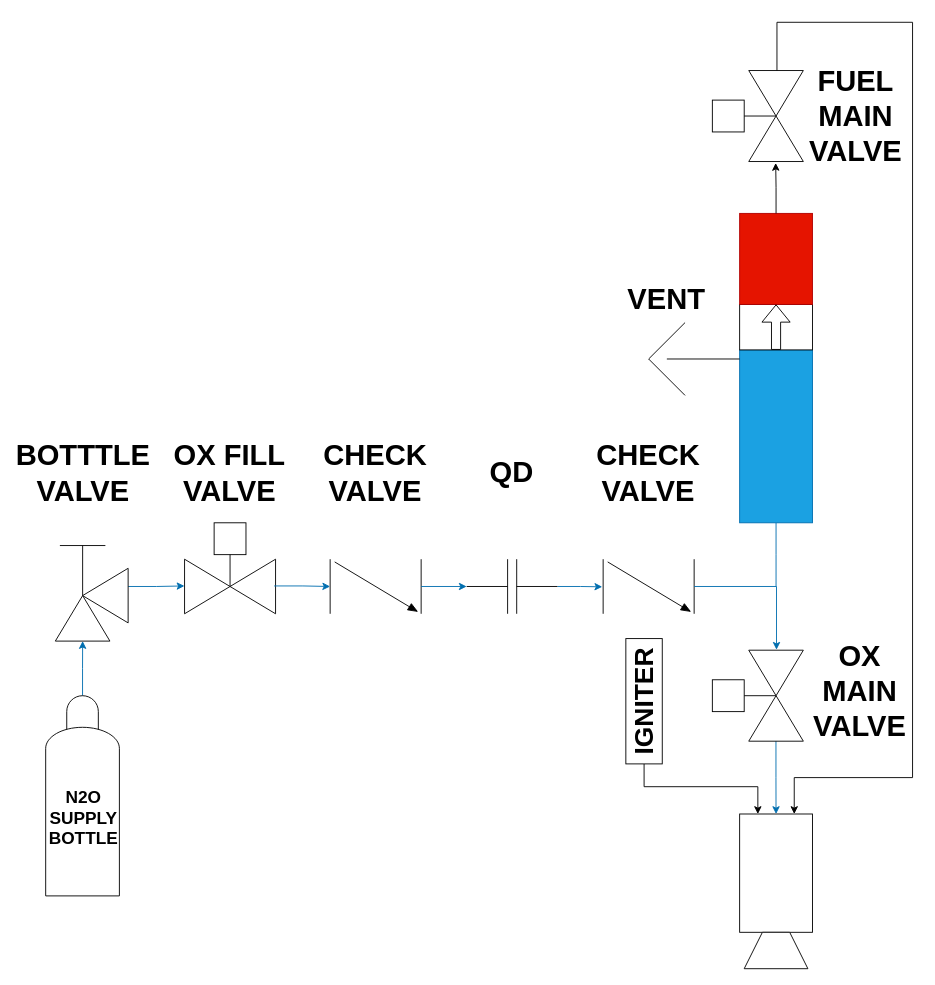
Some shapes in this 935 by 985 pixel diagram are drawn without their labels. The shapes that lost their labels are listed below. From the top down, each one's centre as x and y in pixels, then its label:
(775,258): FUEL
(775,436): OXIDISER
